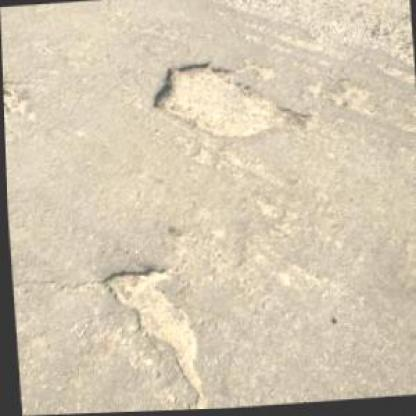pothole: (100, 263, 211, 412), (146, 54, 317, 148)
